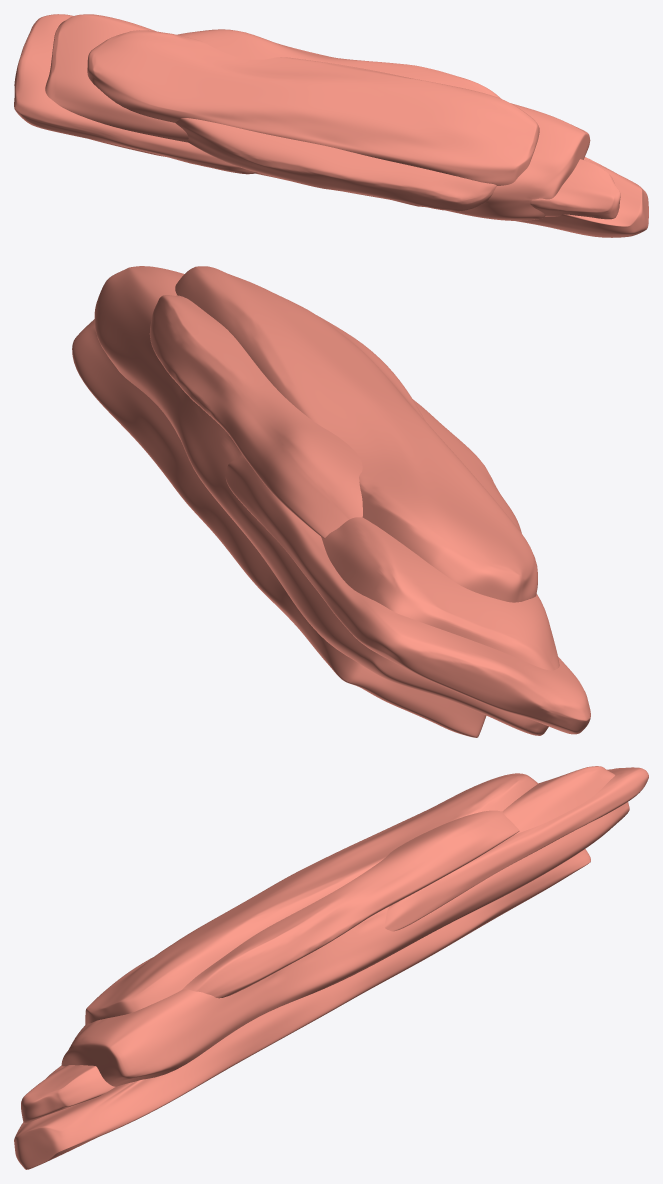
The model's file is LargeRock_high.fbx.
The picture shows the model from 3 angles, top to bottom: view 1: azimuth 30°, elevation 25°; view 2: azimuth 150°, elevation 25°; view 3: azimuth 270°, elevation 25°; orthographic projection. The views are drawn at different scales.
Parts seen in each view (by area): view 1: LargeRock_high; view 2: LargeRock_high; view 3: LargeRock_high.
Part boxes in pixels (x1=…): LargeRock_high: x1=14, y1=14, x2=648, y2=237; LargeRock_high: x1=72, y1=266, x2=590, y2=737; LargeRock_high: x1=14, y1=766, x2=648, y2=1169.
Size of the model in its own units: 0.7337 by 0.2322 by 0.7007.
